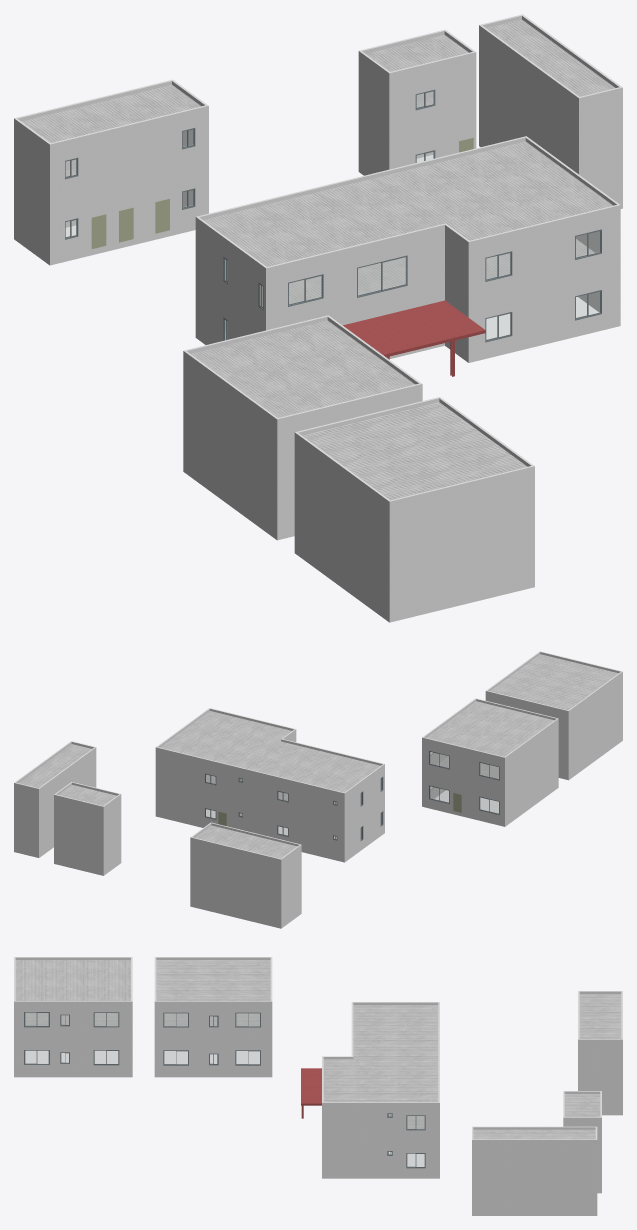
File: Plan(REF)_levels(2)_window(REF)_wall(WAFRA WALL)_quoin(N)_cornice(N).fbx
3 renders of one model, top to bottom at view 1: azimuth 30°, elevation 25°; view 2: azimuth 150°, elevation 25°; view 3: azimuth 270°, elevation 25°, orthographic. The views are drawn at different scales.
Visible parts, largest first — view 1: WAFRA Stucco - White Rough 23, WAFRA Roof - Corrugated Sheet Matte 23, Glass - Clear, WAFRA Roof - Standing Seam Red Coat 23, Metal - Finish - Aluminum, Color - Beige; view 2: WAFRA Stucco - White Rough 23, WAFRA Roof - Corrugated Sheet Matte 23, Glass - Clear, Metal - Finish - Aluminum; view 3: WAFRA Stucco - White Rough 23, WAFRA Roof - Corrugated Sheet Matte 23, Glass - Clear, Metal - Finish - Aluminum, WAFRA Roof - Standing Seam Red Coat 23.
Boxes of the visible parts, left/top/right/bottom form: WAFRA Stucco - White Rough 23: left=14, top=14, right=622, bottom=622; WAFRA Roof - Corrugated Sheet Matte 23: left=21, top=19, right=615, bottom=500; Glass - Clear: left=66, top=91, right=599, bottom=339; WAFRA Roof - Standing Seam Red Coat 23: left=343, top=300, right=485, bottom=376; Metal - Finish - Aluminum: left=65, top=89, right=601, bottom=342; Color - Beige: left=91, top=138, right=473, bottom=248; WAFRA Stucco - White Rough 23: left=14, top=651, right=622, bottom=928; WAFRA Roof - Corrugated Sheet Matte 23: left=18, top=654, right=618, bottom=858; Glass - Clear: left=206, top=752, right=498, bottom=838; Metal - Finish - Aluminum: left=205, top=751, right=499, bottom=840; WAFRA Stucco - White Rough 23: left=14, top=957, right=622, bottom=1215; WAFRA Roof - Corrugated Sheet Matte 23: left=15, top=960, right=621, bottom=1139; Glass - Clear: left=25, top=1013, right=424, bottom=1166; Metal - Finish - Aluminum: left=24, top=1012, right=425, bottom=1168; WAFRA Roof - Standing Seam Red Coat 23: left=301, top=1068, right=321, bottom=1118.
Bounding box in the file's own units: 4148 × 5833 × 800.
Materials: 11 (4 with a texture image).
